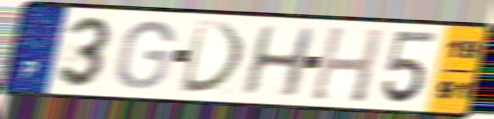3: (56, 14, 114, 90)
5: (379, 29, 440, 106)
D: (177, 19, 249, 95)
G: (113, 18, 177, 91)
H: (308, 24, 387, 105), (238, 24, 317, 99)
